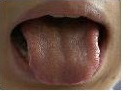huangtaishe: (22, 25, 100, 85)
